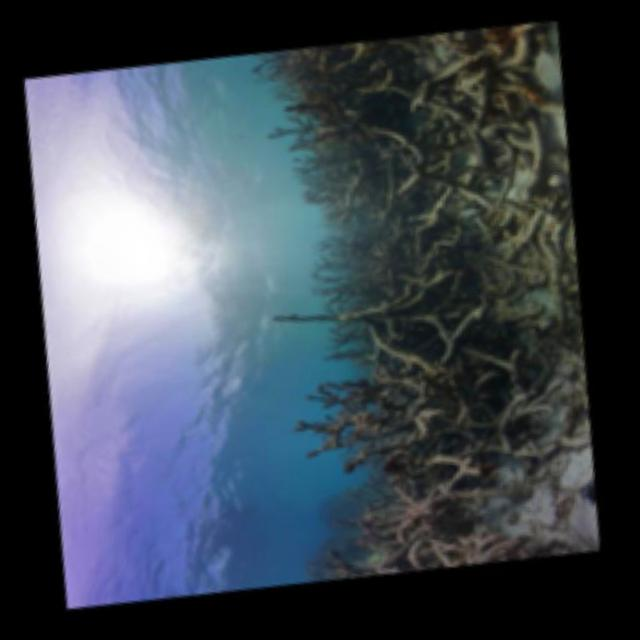Dead Coral: (286, 285, 599, 590), (295, 13, 565, 336)
